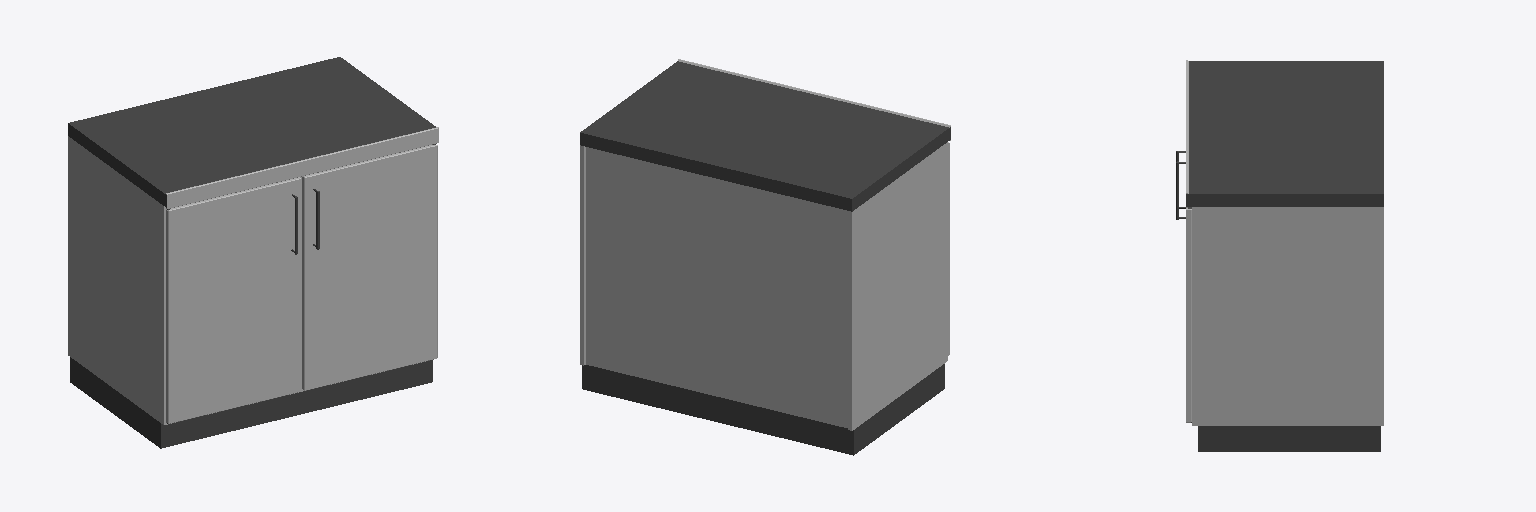
File: Cabinet100D.obj
The picture shows the model from 3 angles: view 1: azimuth 30°, elevation 25°; view 2: azimuth 150°, elevation 25°; view 3: azimuth 270°, elevation 25°; orthographic projection.
Parts seen in each view (by area): view 1: sweethome3d_opening_on_hinge_2_door, sweethome3d_opening_on_hinge_1_door, top, frame, toekick, border; view 2: back, top, frame, toekick, border; view 3: frame, top, toekick, sweethome3d_opening_on_hinge_2_door.
Boxes of the visible parts, <box> form: sweethome3d_opening_on_hinge_2_door: <box>302,145,437,390</box>; sweethome3d_opening_on_hinge_1_door: <box>166,177,300,423</box>; top: <box>68,57,435,207</box>; frame: <box>68,136,425,424</box>; toekick: <box>70,357,432,448</box>; border: <box>166,127,438,208</box>; back: <box>586,147,847,427</box>; top: <box>580,61,950,211</box>; frame: <box>580,142,947,430</box>; toekick: <box>582,364,944,455</box>; border: <box>678,59,950,140</box>; frame: <box>1192,207,1383,425</box>; top: <box>1186,61,1383,206</box>; toekick: <box>1198,426,1380,451</box>; sweethome3d_opening_on_hinge_2_door: <box>1186,208,1191,422</box>.
Size of the model in its own units: 100 by 91 by 66.